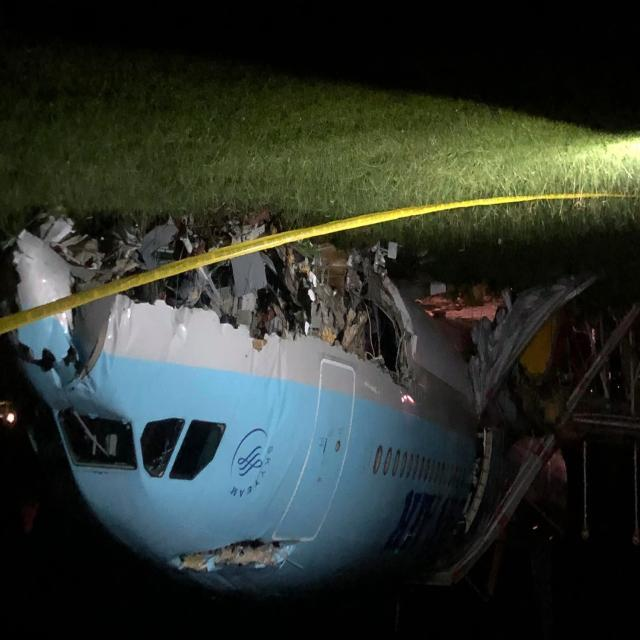crack: (166, 549, 315, 575)
